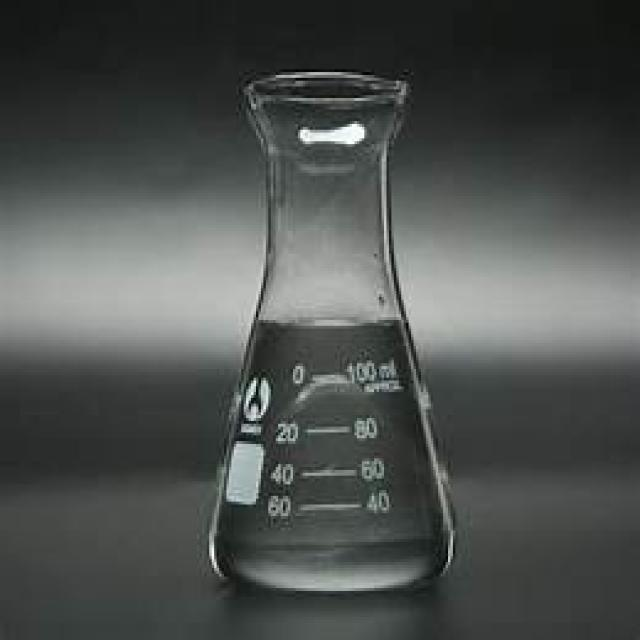Titrarion: (204, 73, 464, 591)
